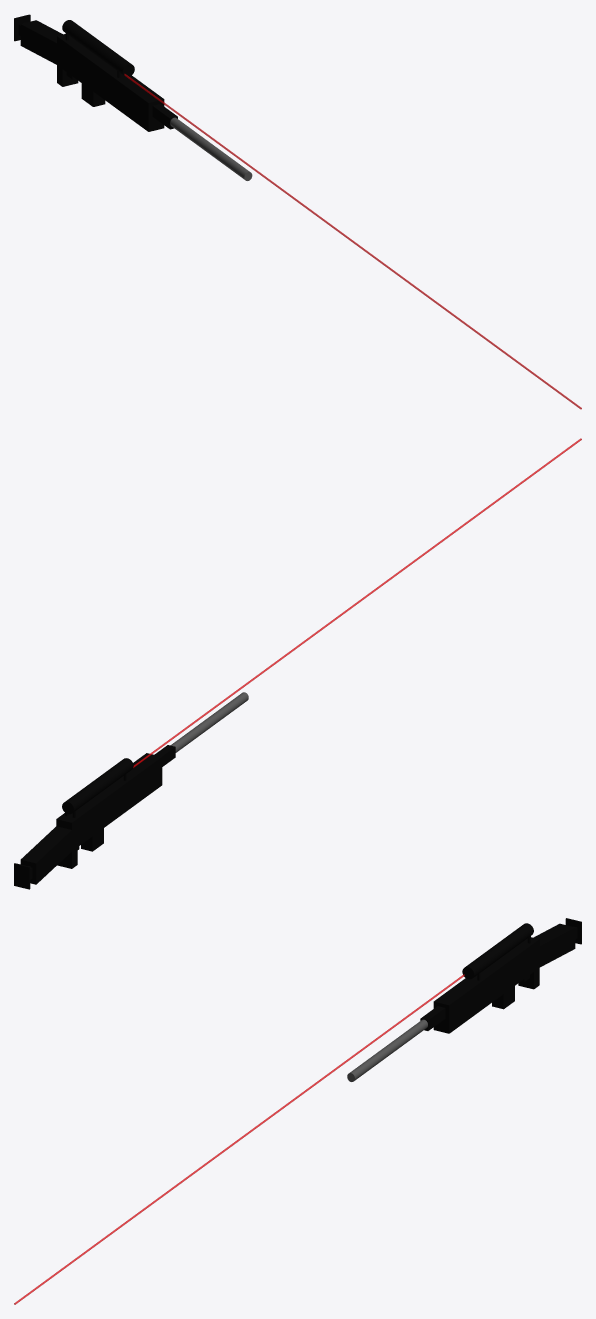
File: sniper.fbx
3 renders of one model, top to bottom at view 1: azimuth 30°, elevation 25°; view 2: azimuth 150°, elevation 25°; view 3: azimuth 330°, elevation 25°, orthographic.
Visible parts, largest first — view 1: Cube.008; view 2: Cube.008; view 3: Cube.008.
Part boxes in pixels (x1,y1,x2,y2): Cube.008: (14,14,581,409); Cube.008: (14,438,581,889); Cube.008: (14,918,581,1304).
Size of the model in its own units: 20 by 76.47 by 1229.
